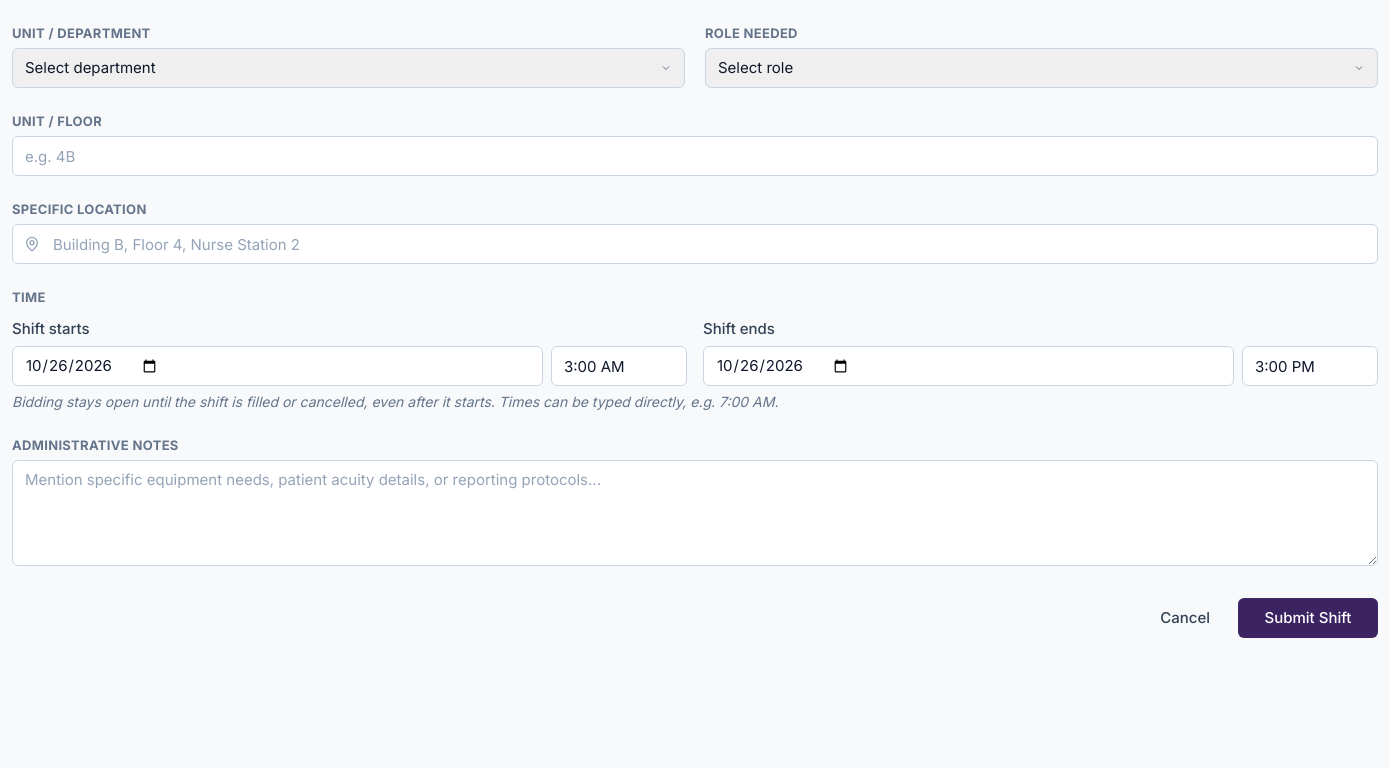
Scenario: ShiftForm › renders field errors returned by the server action
The width and height of the screenshot is (1390, 768).
Select "Emergency (ED)" in the dropdown labelled "Unit / Department": coordinates (348, 68) [12, 48, 685, 88]
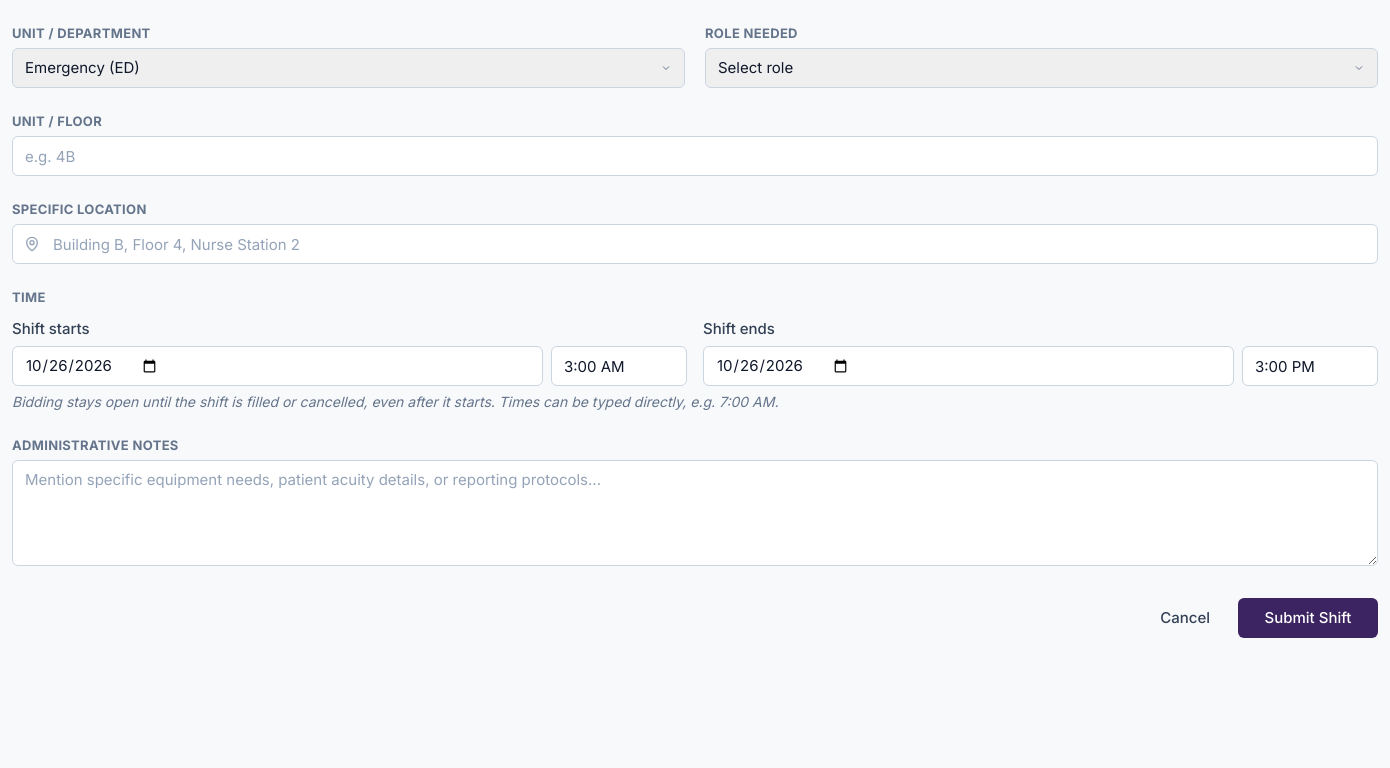
Select "Emergency MD" in the dropdown labelled "Role needed": coordinates (1042, 68) [705, 48, 1378, 88]
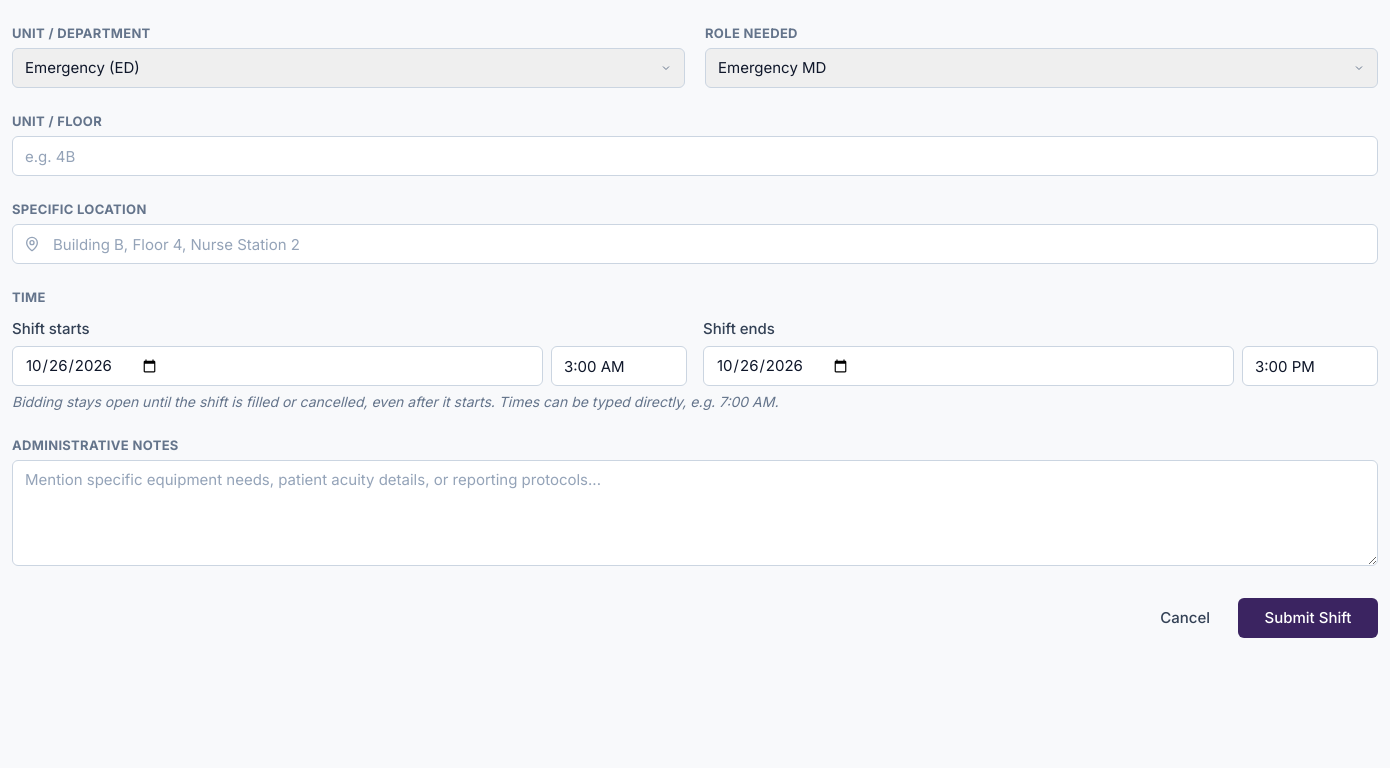
In the field labelled "Unit / floor": coordinates (695, 156) [12, 136, 1378, 176], type "4B"
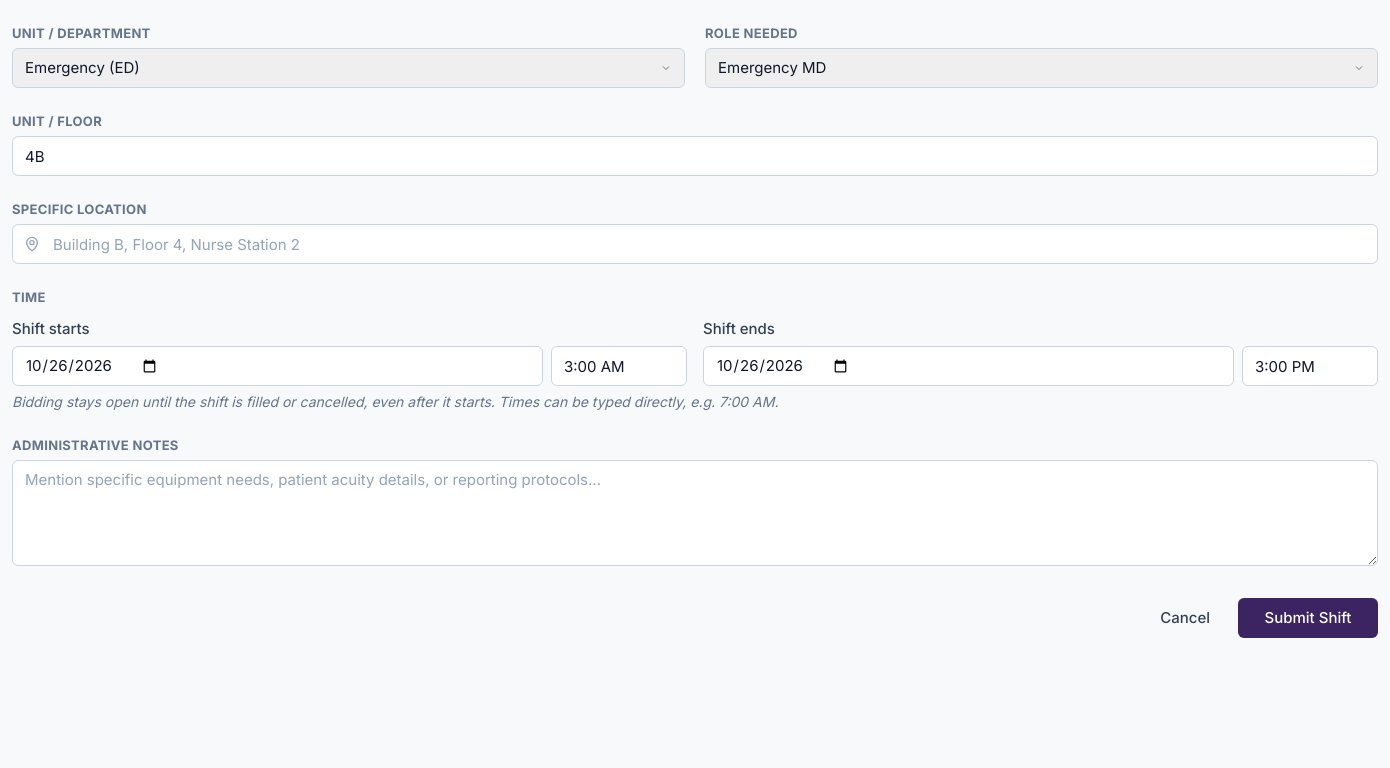
In the field labelled "Specific location": coordinates (695, 244) [12, 224, 1378, 264], type "Building B"
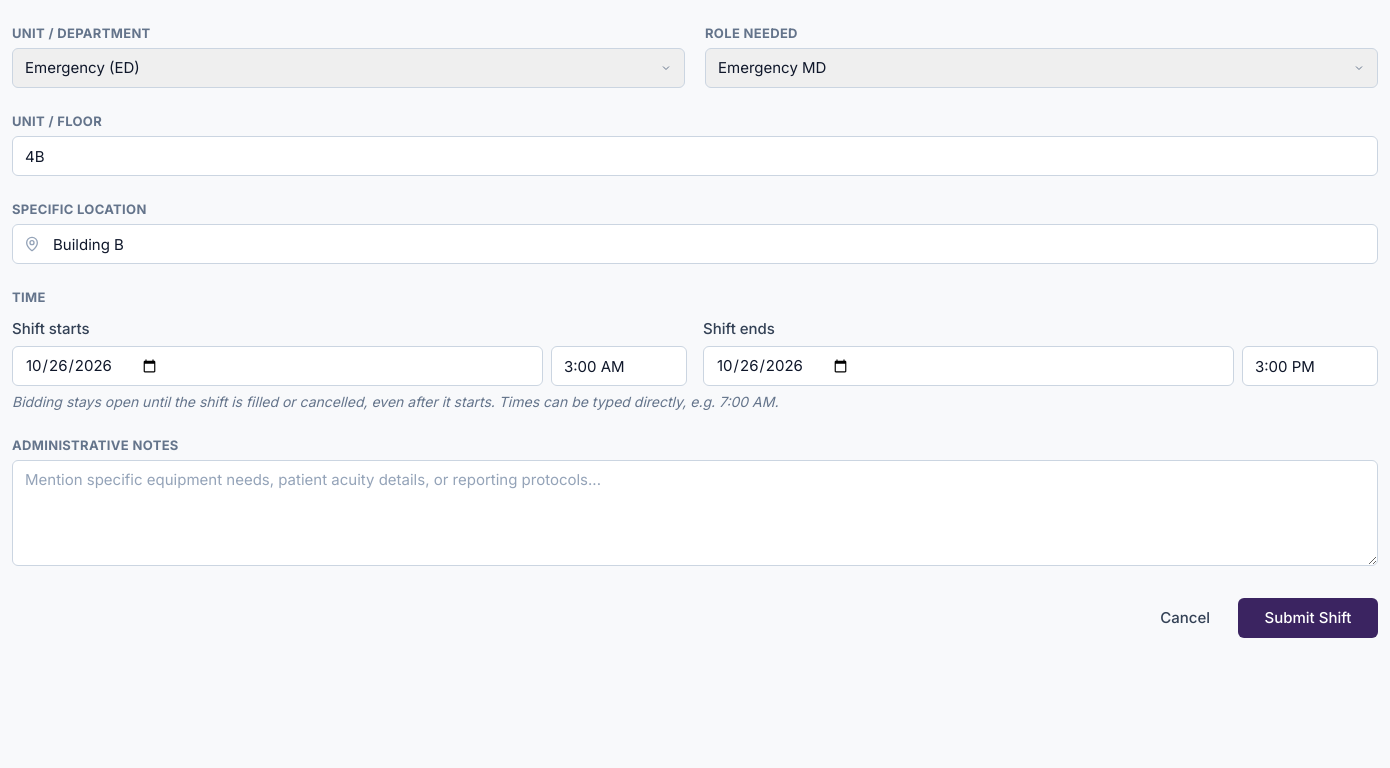
Click the button "Submit Shift": coordinates (1308, 618) [1238, 598, 1378, 638]
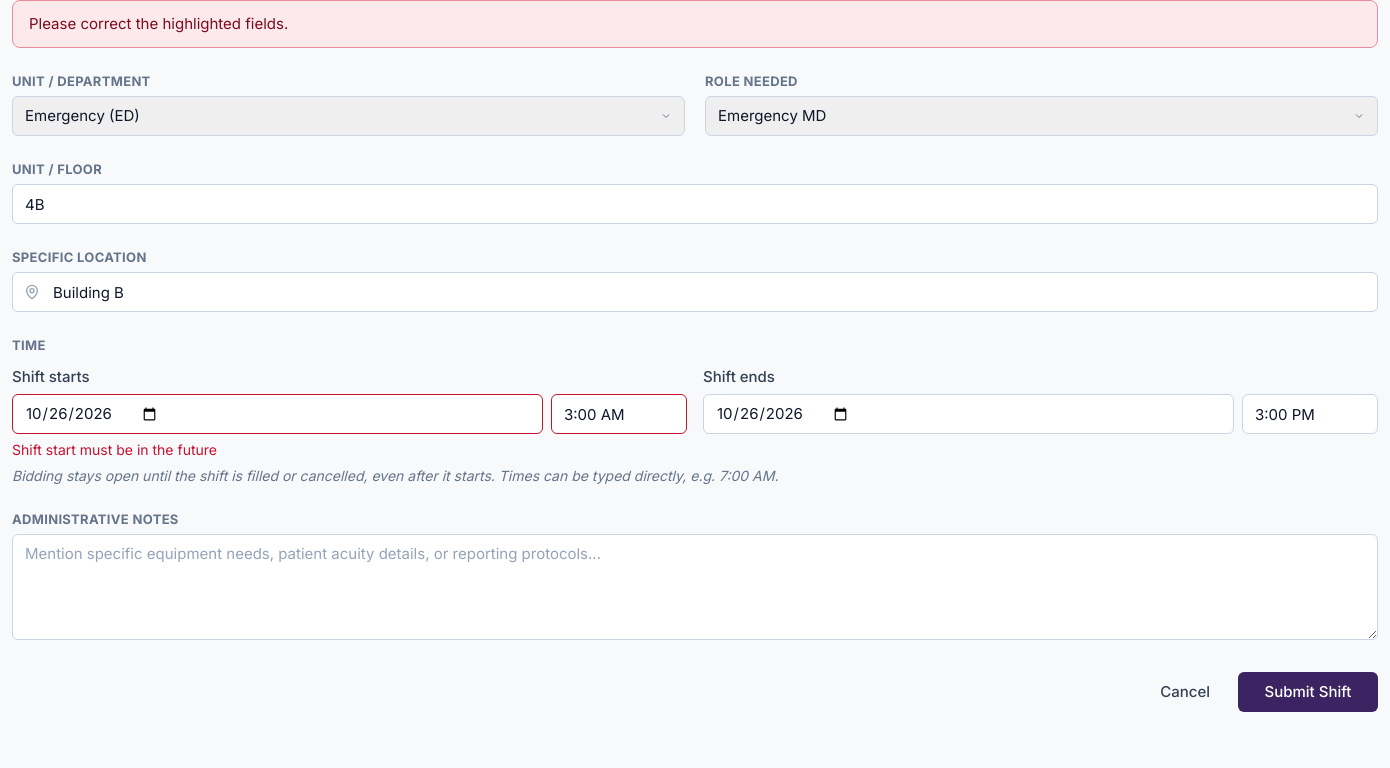
Check: the text "Shift start must be in the future" is shown, box [12, 441, 217, 458]
Check: the text "Please correct the highlighted fields." is shown, box [12, 0, 1378, 48]
